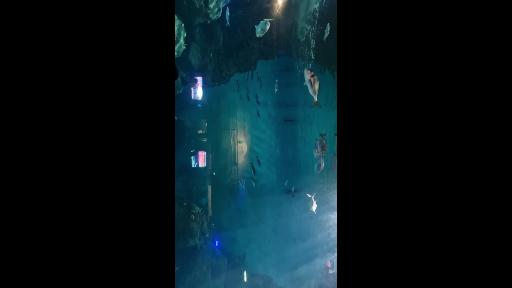Fish: (304, 69, 321, 107), (255, 19, 273, 37), (317, 134, 327, 155), (307, 194, 317, 213), (315, 157, 324, 173), (314, 140, 321, 157), (324, 23, 329, 41), (226, 8, 230, 26), (332, 154, 336, 170), (250, 163, 255, 175), (239, 179, 245, 187), (256, 156, 260, 167), (251, 177, 255, 187), (275, 80, 278, 93), (236, 80, 239, 91), (327, 260, 331, 268), (243, 178, 246, 187), (256, 72, 259, 81), (286, 190, 299, 192), (256, 99, 259, 105), (247, 71, 249, 80), (260, 79, 262, 88), (247, 93, 249, 101), (251, 72, 253, 80), (240, 94, 242, 101), (257, 111, 259, 118), (292, 186, 294, 192), (334, 133, 337, 137), (175, 267, 178, 271), (256, 94, 258, 99), (286, 180, 287, 186)
